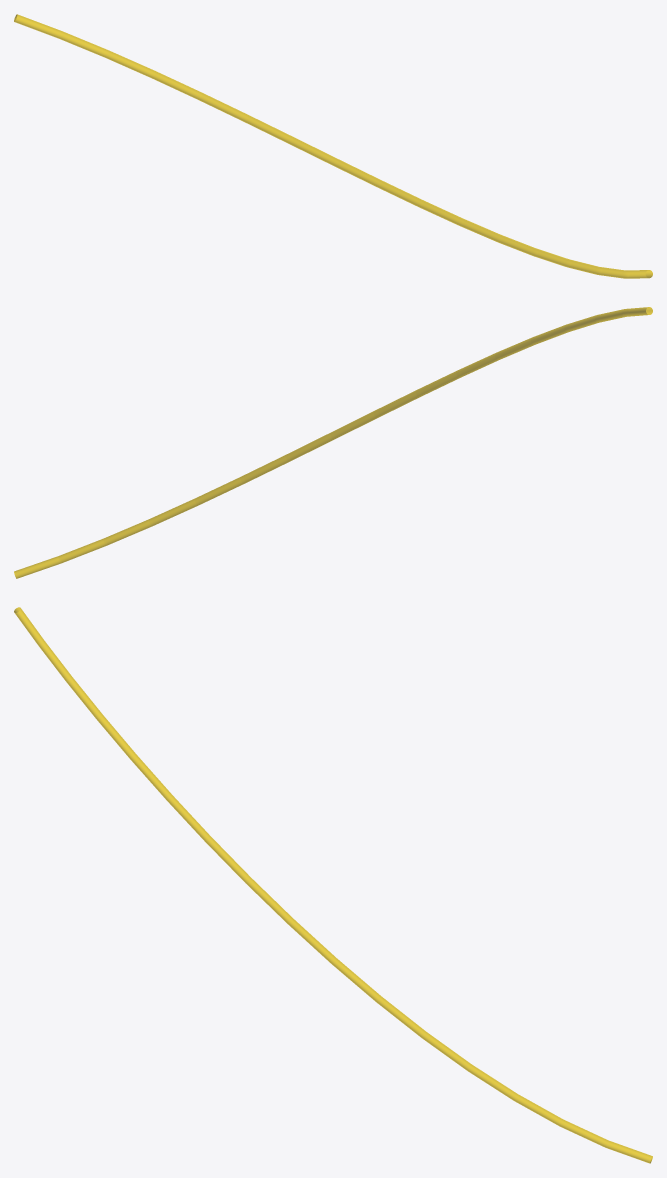
File: Event_100608114_track_138.fbx
3 views of the same model, one above another, from view 1: azimuth 30°, elevation 25°; view 2: azimuth 150°, elevation 25°; view 3: azimuth 330°, elevation 25° (orthographic). The views are drawn at different scales.
Visible parts, largest first — view 1: Model; view 2: Model; view 3: Model.
Boxes of the visible parts, box(x1,y1,x2,y2) form: Model: box(14, 14, 652, 278); Model: box(14, 307, 652, 578); Model: box(14, 607, 652, 1163).
Bounding box in the file's own units: 3.6 × 2.27 × 0.5424.
